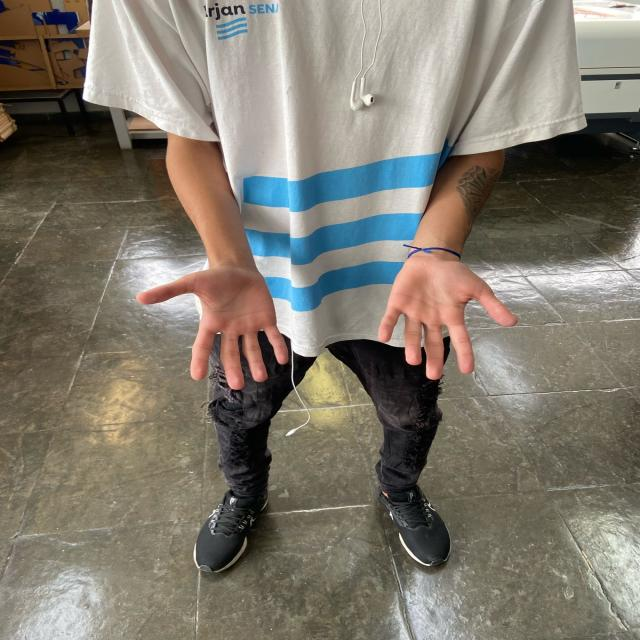SEM BOTA: (188, 484, 277, 577), (377, 476, 457, 569)
SEM LUVA: (137, 262, 293, 393), (368, 256, 528, 383)
